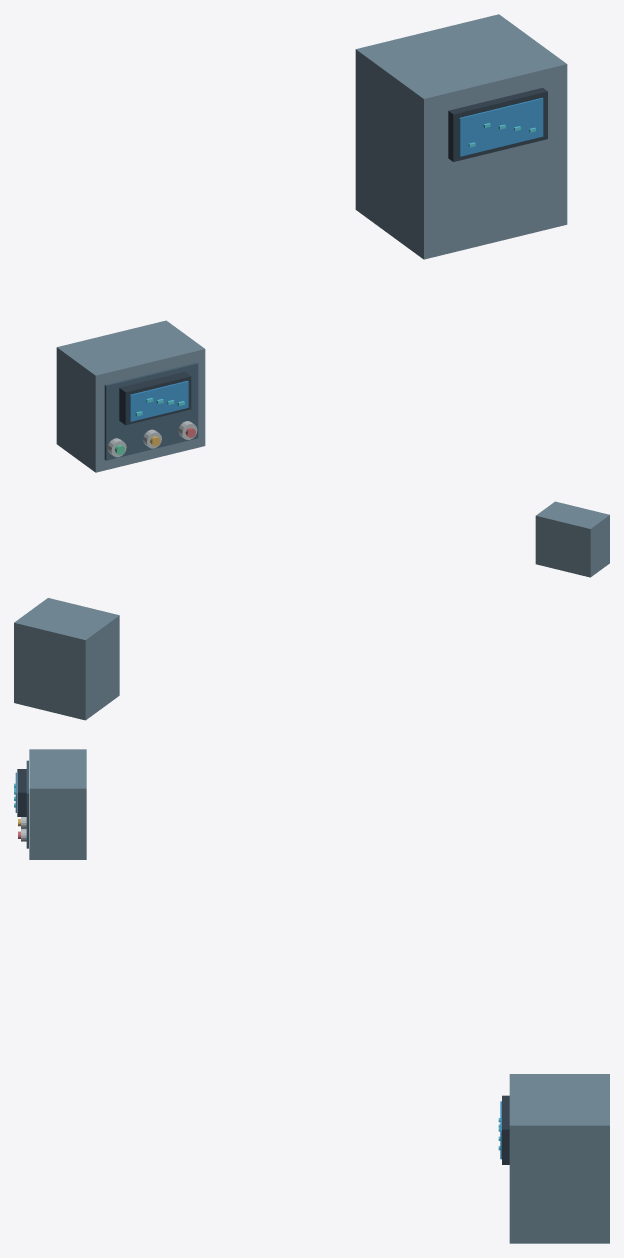
The model's file is 42_L69_ThermalLoadDisturbanceModule.glb.
The picture shows the model from 3 angles, top to bottom: view 1: azimuth 30°, elevation 25°; view 2: azimuth 150°, elevation 25°; view 3: azimuth 270°, elevation 25°; orthographic projection. The views are drawn at different scales.
Visible parts, largest first — view 1: ThermalLoadDisturbanceModule_Part_020, ThermalLoadDisturbanceModule_Part_000, ThermalLoadDisturbanceModule_Part_001, ThermalLoadDisturbanceModule_Part_022, ThermalLoadDisturbanceModule_Part_021, ThermalLoadDisturbanceModule_Part_003, ThermalLoadDisturbanceModule_Part_002; view 2: ThermalLoadDisturbanceModule_Part_020, ThermalLoadDisturbanceModule_Part_000; view 3: ThermalLoadDisturbanceModule_Part_020, ThermalLoadDisturbanceModule_Part_000.
Part boxes in pixels (x1=…): ThermalLoadDisturbanceModule_Part_020: x1=355, y1=14, x2=567, y2=259; ThermalLoadDisturbanceModule_Part_000: x1=56, y1=320, x2=205, y2=472; ThermalLoadDisturbanceModule_Part_001: x1=104, y1=362, x2=198, y2=460; ThermalLoadDisturbanceModule_Part_022: x1=459, y1=97, x2=543, y2=156; ThermalLoadDisturbanceModule_Part_021: x1=448, y1=87, x2=547, y2=161; ThermalLoadDisturbanceModule_Part_003: x1=129, y1=381, x2=188, y2=421; ThermalLoadDisturbanceModule_Part_002: x1=119, y1=372, x2=191, y2=425; ThermalLoadDisturbanceModule_Part_020: x1=14, y1=598, x2=119, y2=720; ThermalLoadDisturbanceModule_Part_000: x1=535, y1=501, x2=609, y2=577; ThermalLoadDisturbanceModule_Part_020: x1=509, y1=1074, x2=609, y2=1243; ThermalLoadDisturbanceModule_Part_000: x1=29, y1=749, x2=86, y2=859.
Size of the model in its own units: 4.73 by 1.6 by 4.16.
